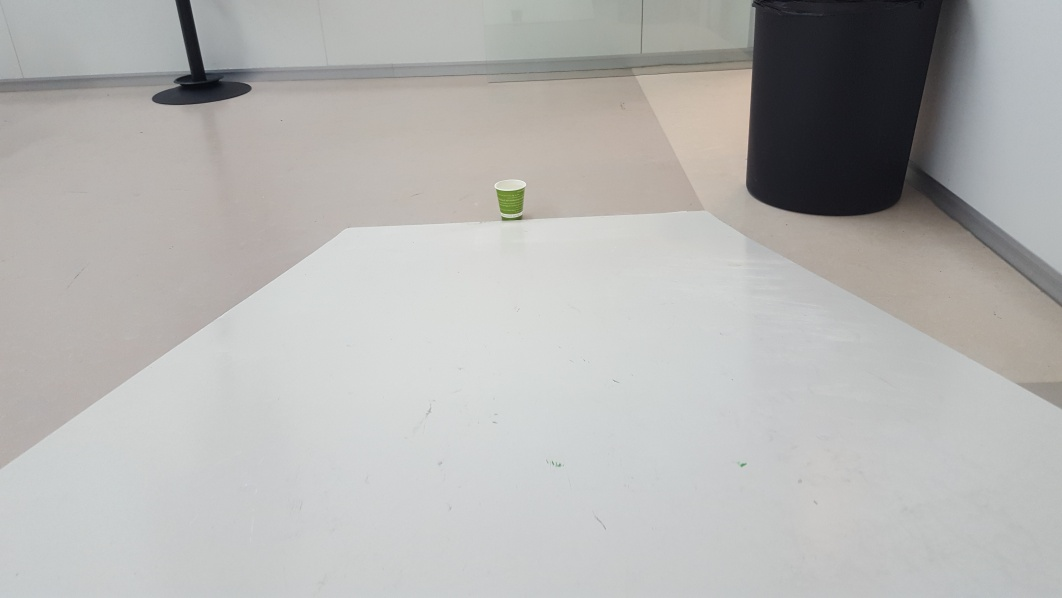cup: (495, 177, 529, 223)
